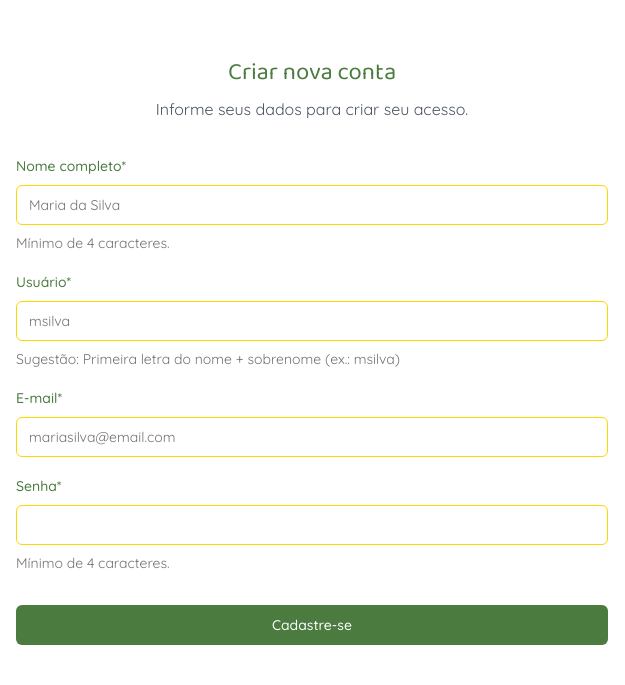
Test: pages / sign up › should show error messages when form is not properly filled out
The width and height of the screenshot is (625, 685).
(page scrolled)
What coordinates should you click on to do the following:
click the button
I would click on:
 (312, 624)
Its box is [16,604,608,644].
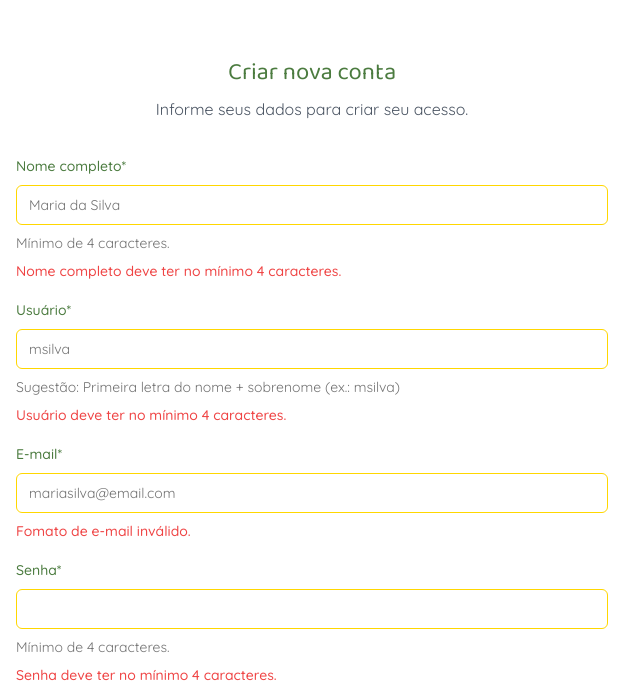
Expected: the text "Nome completo deve ter no mínimo 4 caracteres." is shown, [16,262,341,280]
Expected: the text "Usuário deve ter no mínimo 4 caracteres." is shown, [16,406,286,424]
Expected: the text "Fomato de e-mail inválido." is shown, [16,522,191,540]
